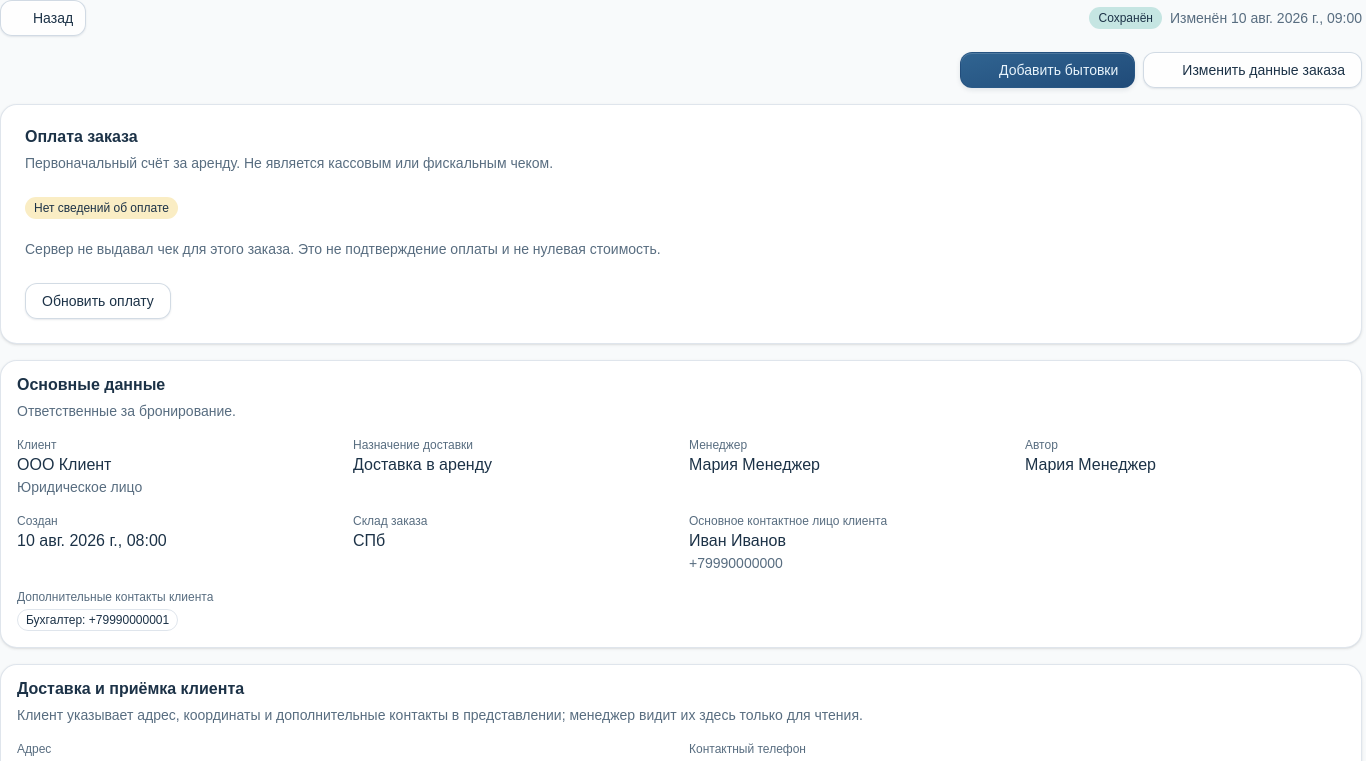
it: OrderDetailPage cabin entry › keeps the shared manager screen inside its authorized application boundary
Expected: the text "Сохранён" is shown, [1090, 7, 1162, 29]
Step 1. Click the button "Добавить бытовки" → (1048, 70), box [960, 52, 1135, 88]
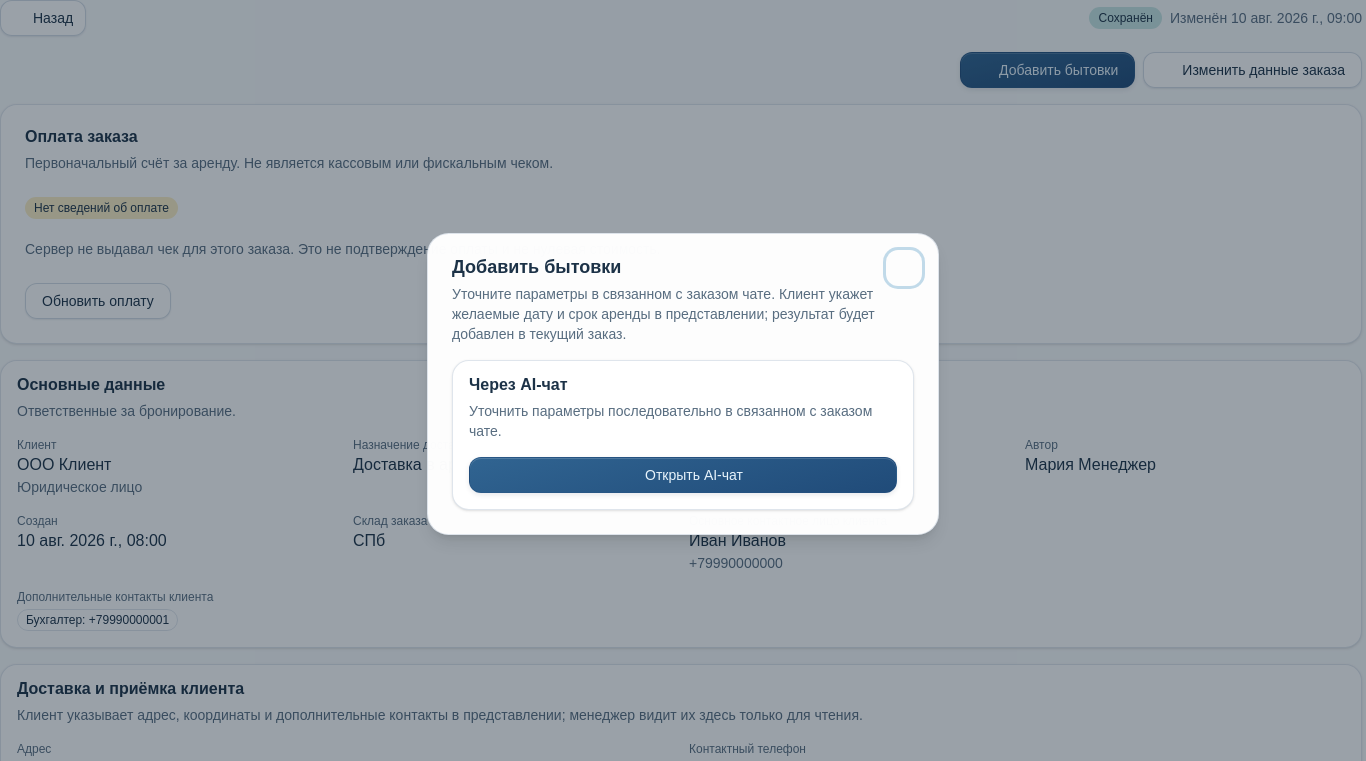
Now the link "Открыть AI-чат" is shown, box [469, 457, 897, 493]
